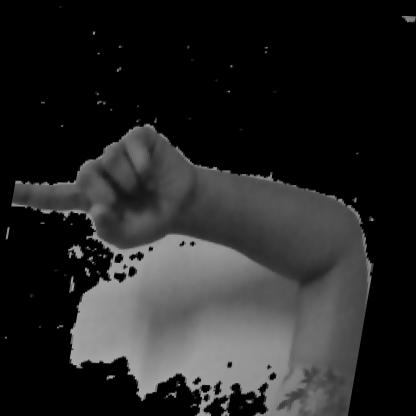one: (4, 106, 370, 278)
